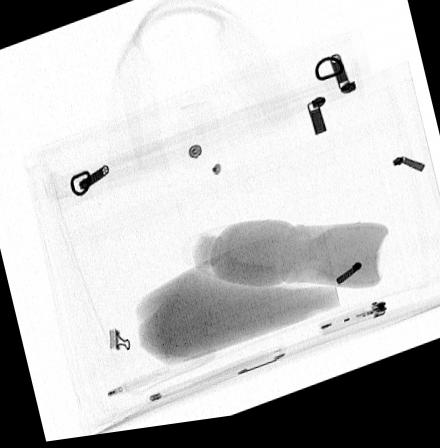Lighter: (315, 311, 386, 346)
